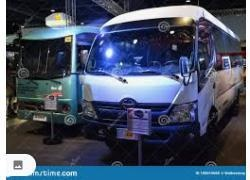bus: (82, 5, 245, 149)
